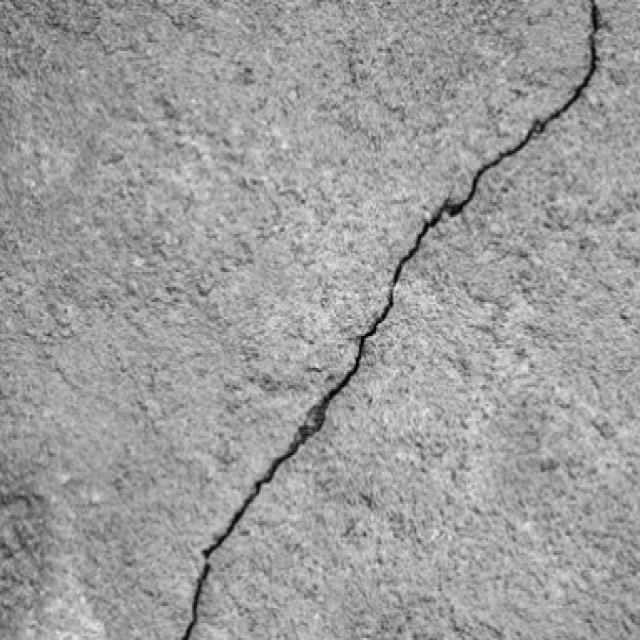diagonal crack: (181, 0, 599, 639)
